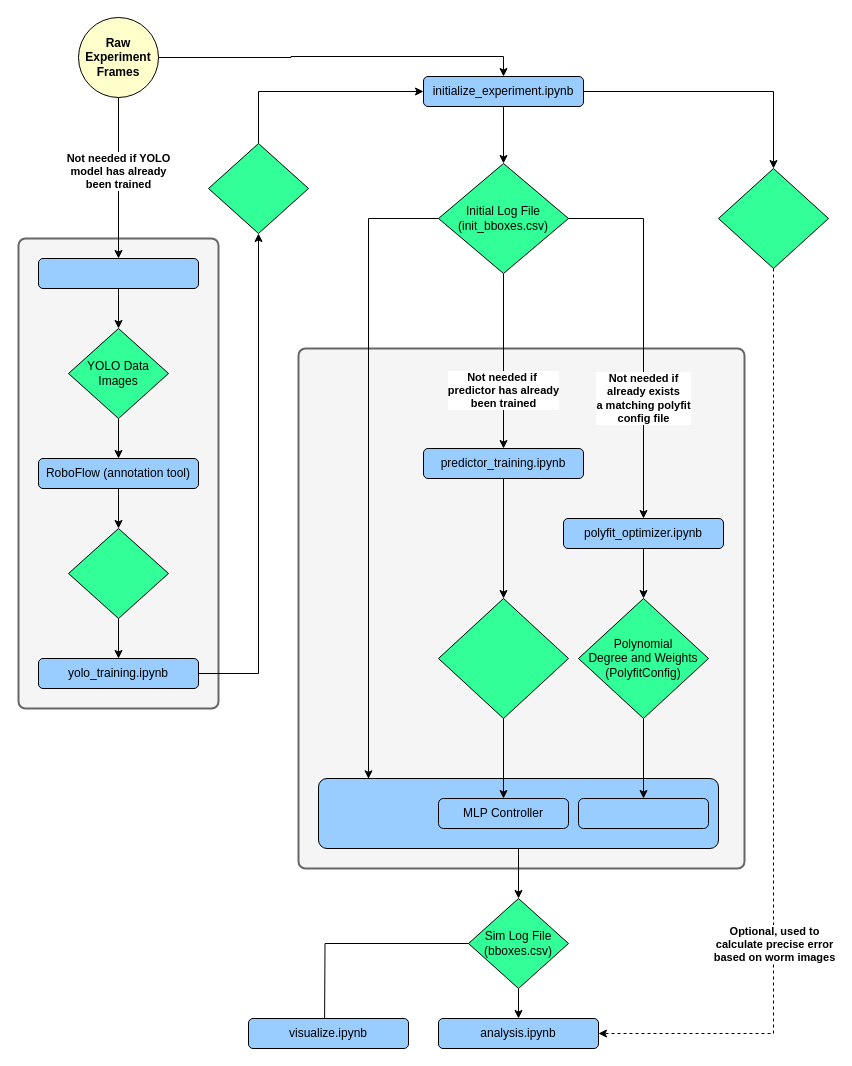
This 852x1066 diagram has some shape labels left out. The box of each missing label's shape, as (x1, y1, x2, y2) in pixels:
Background + Worm Images: (718, 168, 828, 268)
create_yolo_images.ipynb: (38, 258, 198, 288)
Polyfit Controller: (578, 798, 708, 828)
simulate.ipynb: (318, 778, 438, 848)
Trained Predictor Model: (438, 598, 568, 718)
Trained YOLO Model: (208, 142, 308, 234)
YOLO Dataset: (68, 528, 168, 618)
